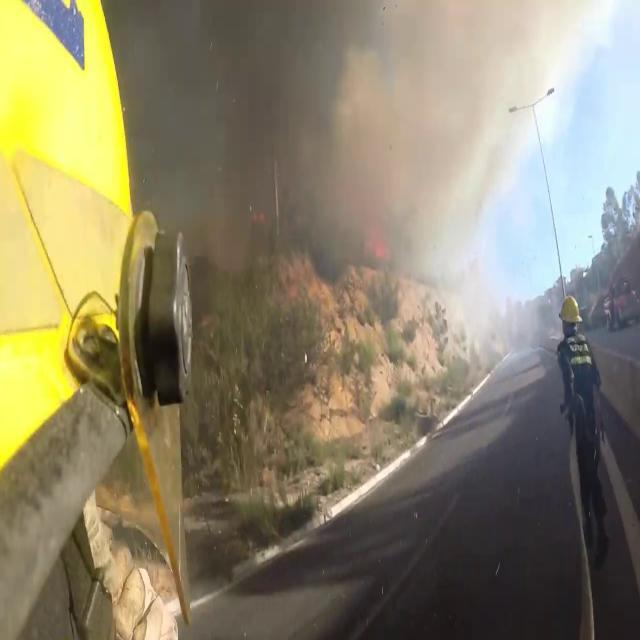Smoke: (124, 0, 554, 332)
